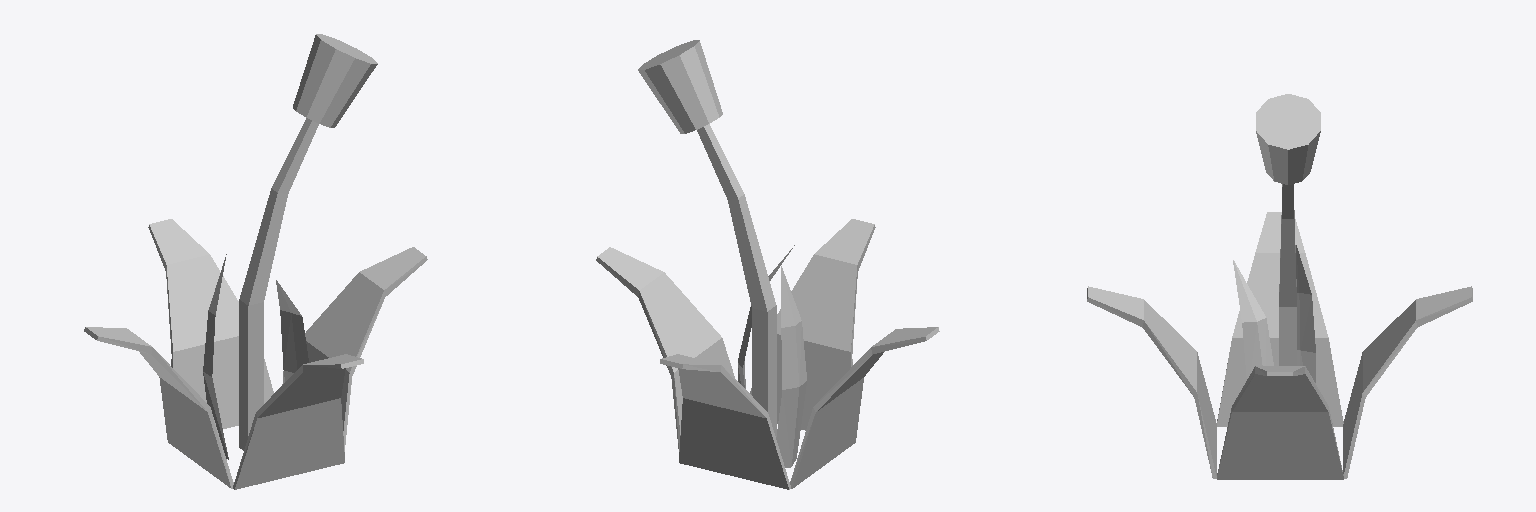
The model's file is flower.obj.
3 views of the same model, side by side, from view 1: azimuth 30°, elevation 25°; view 2: azimuth 150°, elevation 25°; view 3: azimuth 270°, elevation 25° (orthographic).
Parts seen in each view (by area): view 1: FlowerPlant01; view 2: FlowerPlant01; view 3: FlowerPlant01.
Boxes of the visible parts, x1,y1,x2,y2 form: FlowerPlant01: [84, 34, 427, 489]; FlowerPlant01: [596, 40, 939, 489]; FlowerPlant01: [1087, 94, 1472, 479].
Size of the model in its own units: 1.27 by 1.45 by 1.29.